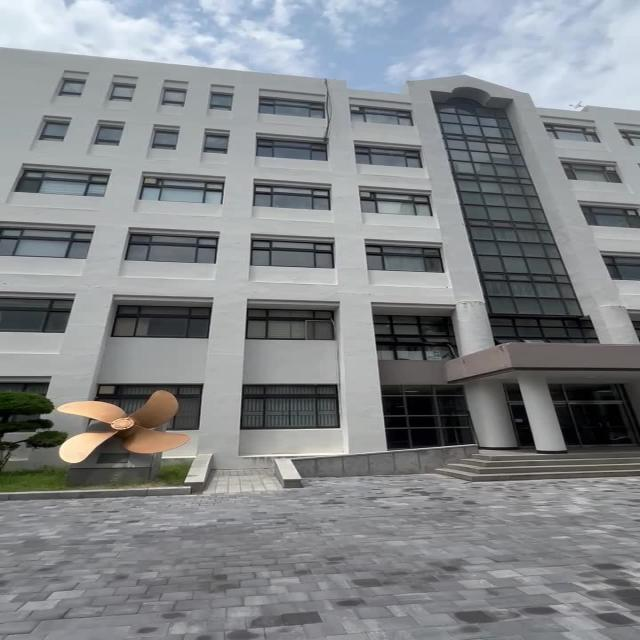building: (9, 49, 640, 470)
